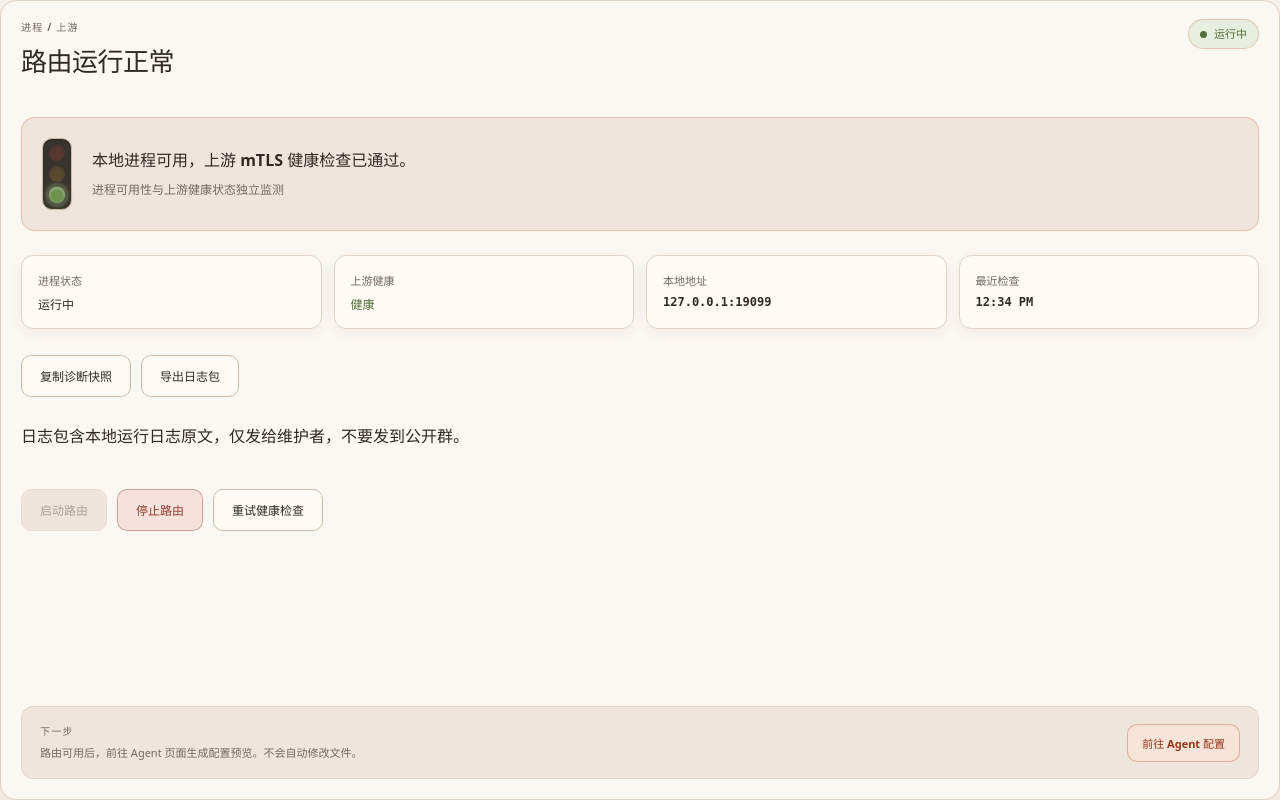
Test: RouterPage states › copies the diagnostic snapshot summary to the clipboard
Expected: the heading "路由运行正常" is shown, [21, 41, 174, 79]
Click the button "复制诊断快照". click: (76,376)
box: [21, 355, 131, 397]
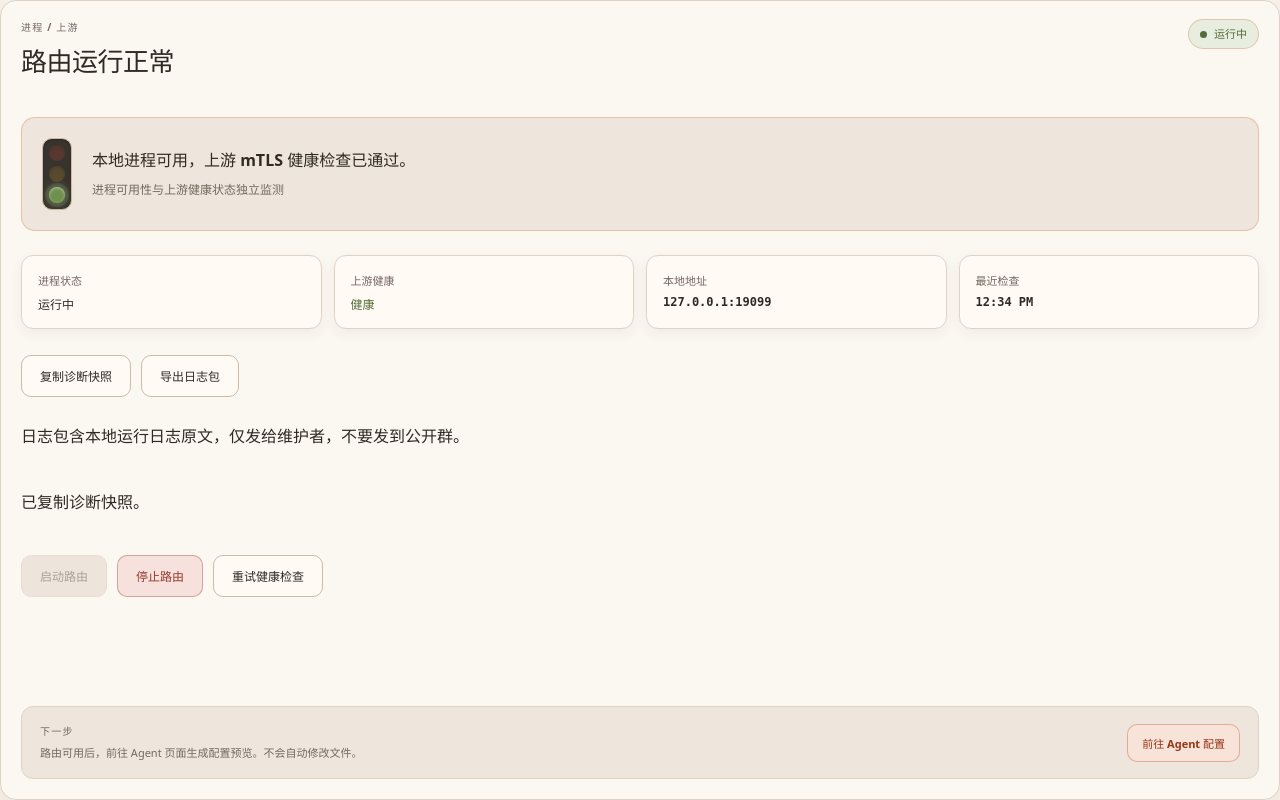
Result: the text "已复制诊断快照。" is shown at [21, 491, 149, 513]
